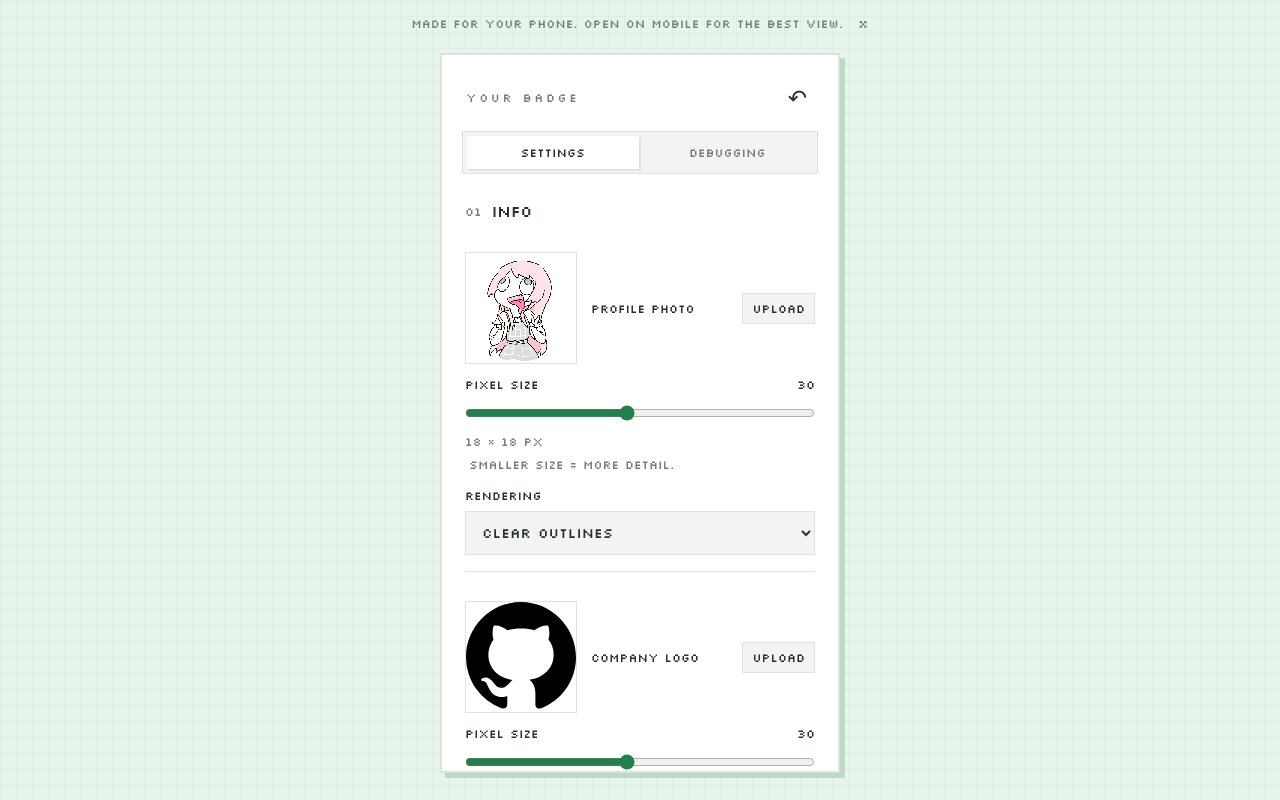
Test: saves a dragged custom point locally and shows it in Debugging without changing company history
This screenshot has width=1280, height=800.
Click the tab "Debugging".
click(727, 152)  # box [642,136,813,169]
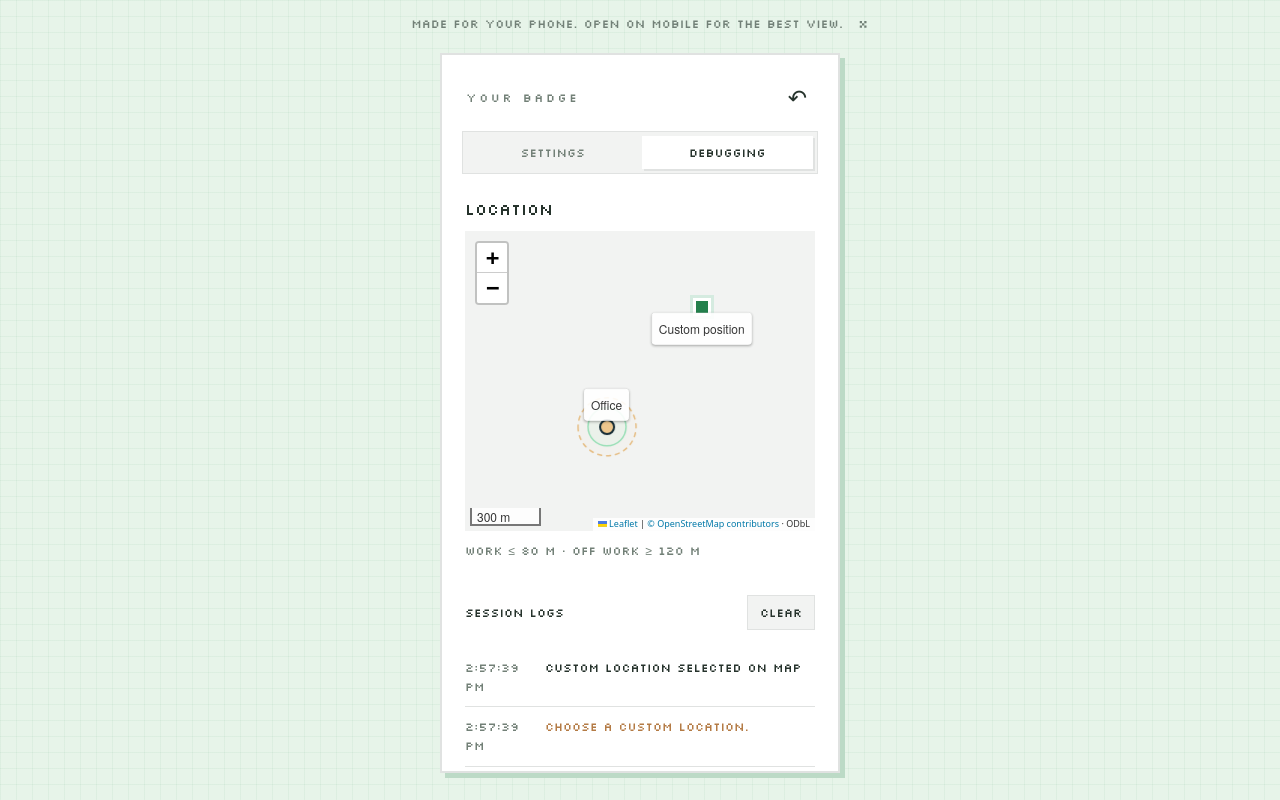
Expected: the dropdown labelled "Custom location map: drag pin or click to select" is gone
